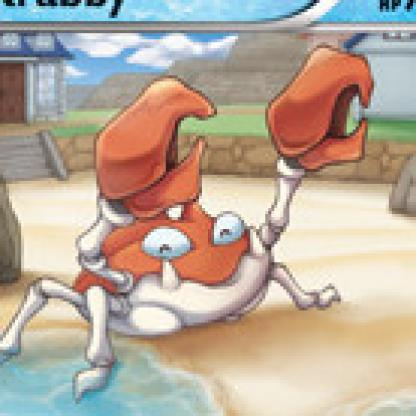Krabby: (8, 46, 379, 397)
